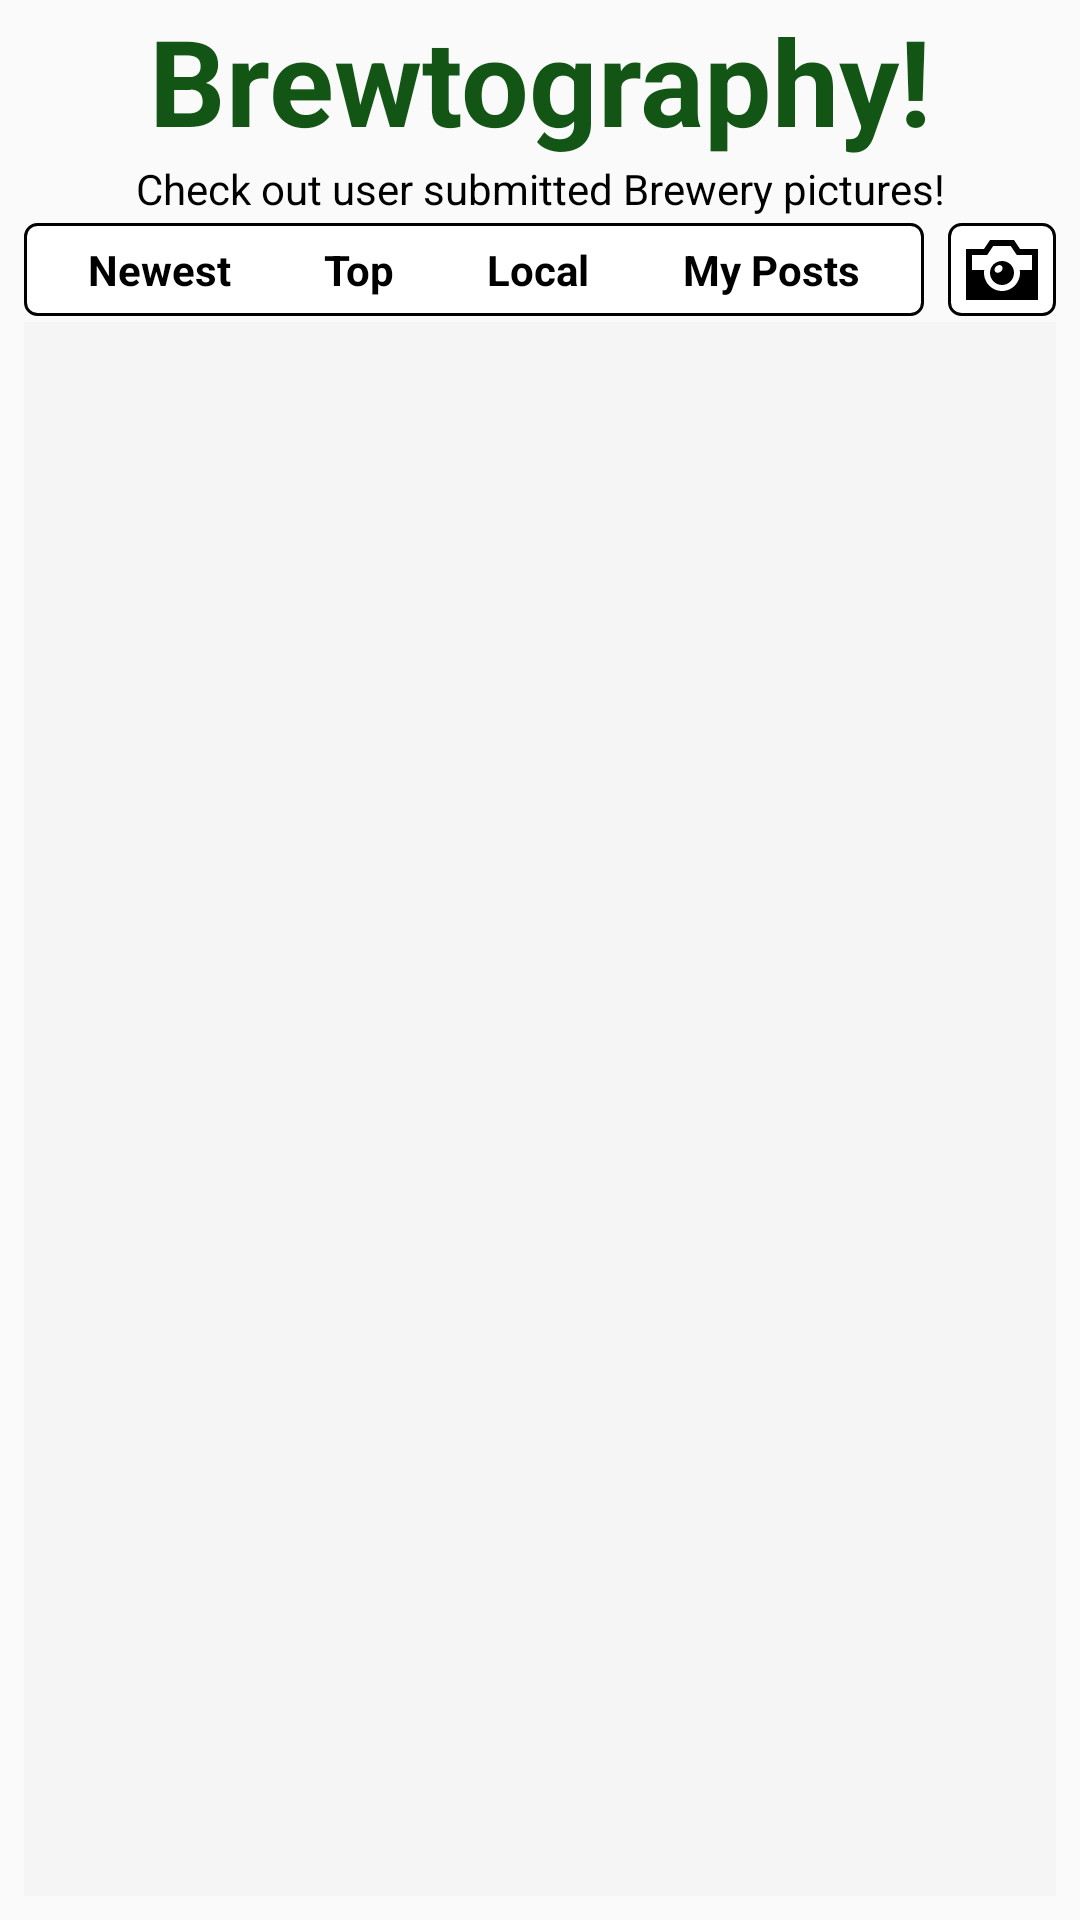

Named icons in this screenshot (1080px×1920px) and their centers, [x,y]:
iconmonstr photo camera: [1002,269]
